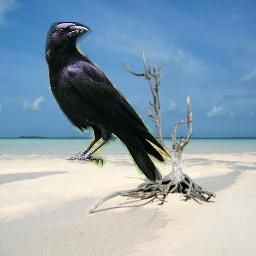Crow: (45, 22, 171, 185)
